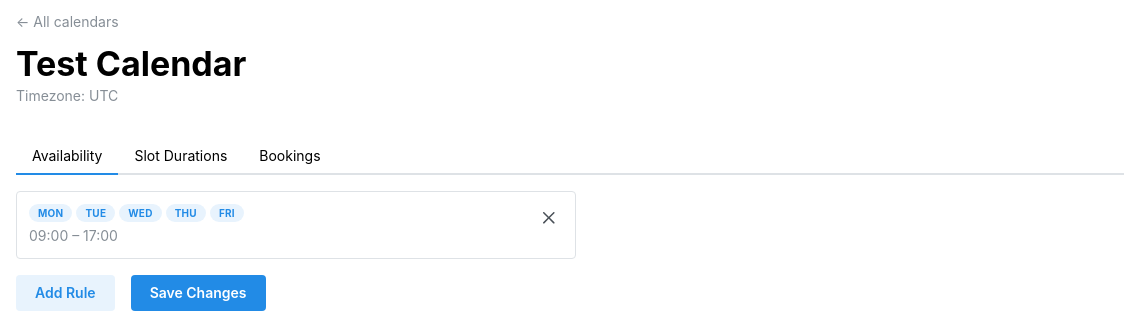
Test: ManagePage › Availability tab (default) › removes a rule when close button is clicked
This screenshot has width=1141, height=328.
Check: the text "09:00 – 17:00" is shown, box [29,227,118,244]
Click the button named "Remove rule".
click(549, 218)  # box [535,204,563,232]
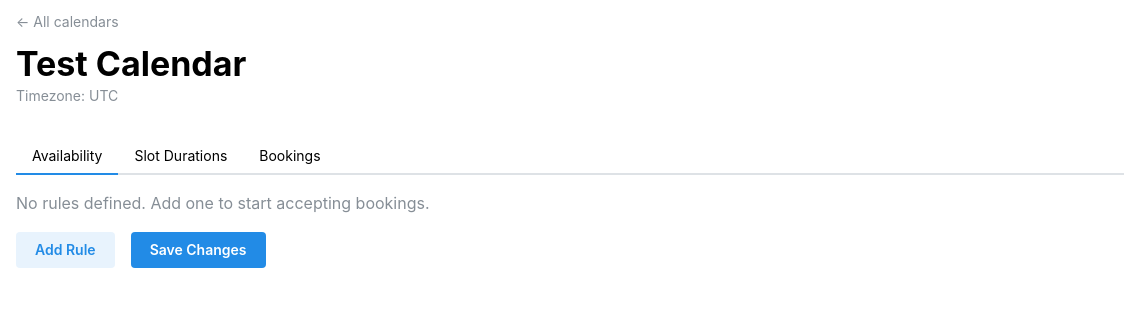
Check: the text "09:00 – 17:00" is gone
